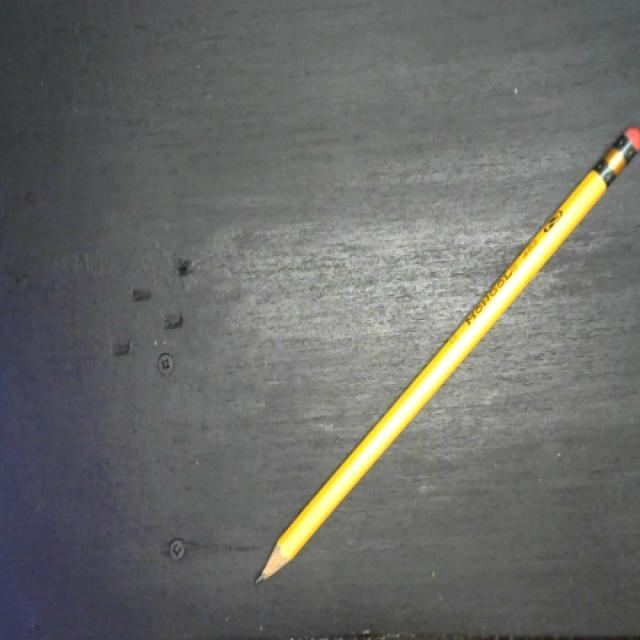biodegradable: (251, 116, 640, 592)
